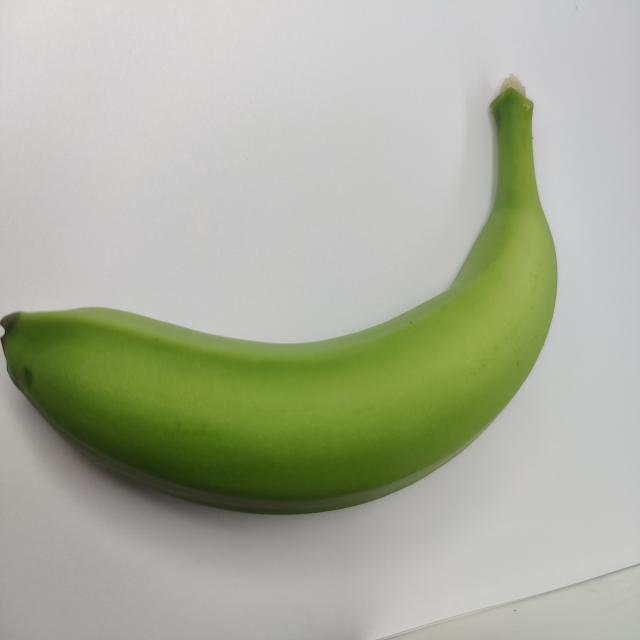raw: (0, 77, 579, 534)
